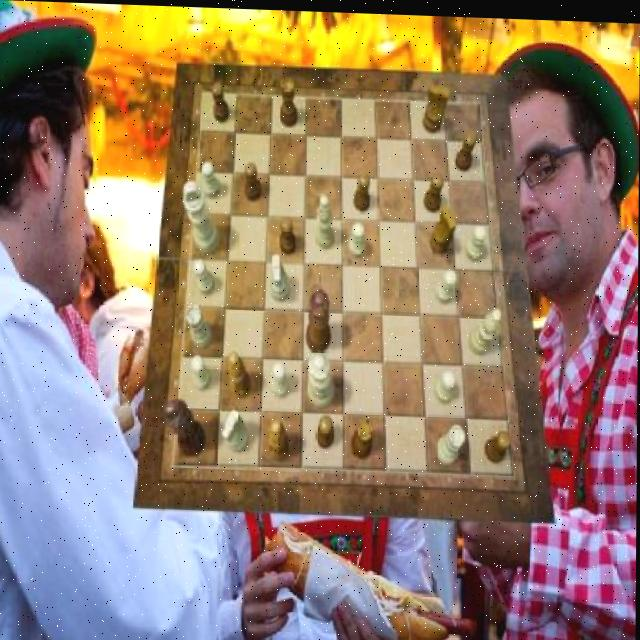bishop: (228, 350, 253, 396), (269, 417, 291, 459)
black-bishop: (163, 397, 207, 456)
black-king: (431, 202, 458, 252), (424, 82, 451, 132)
black-knight: (454, 128, 477, 168), (485, 428, 512, 461), (425, 171, 445, 210), (212, 82, 231, 122), (354, 170, 372, 209), (316, 412, 335, 447), (245, 161, 262, 199), (280, 216, 297, 253)
black-pawn: (307, 287, 332, 352)
black-queen: (279, 76, 299, 126), (351, 415, 374, 457)
black-rook: (470, 304, 503, 353), (316, 192, 335, 248)
white-bishop: (183, 179, 220, 254)
white-king: (222, 408, 249, 451), (270, 254, 292, 301)
white-knight: (435, 265, 458, 300), (194, 258, 215, 295), (466, 222, 487, 258), (435, 366, 457, 400), (192, 354, 212, 390), (202, 160, 221, 196), (271, 360, 289, 395), (349, 219, 366, 254)
white-pawn: (308, 348, 336, 406)
white-queen: (437, 420, 467, 461), (188, 304, 214, 347)
